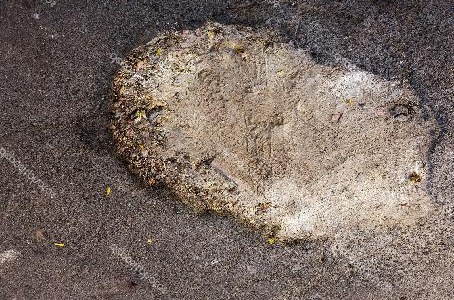pothole: (72, 17, 453, 258)
